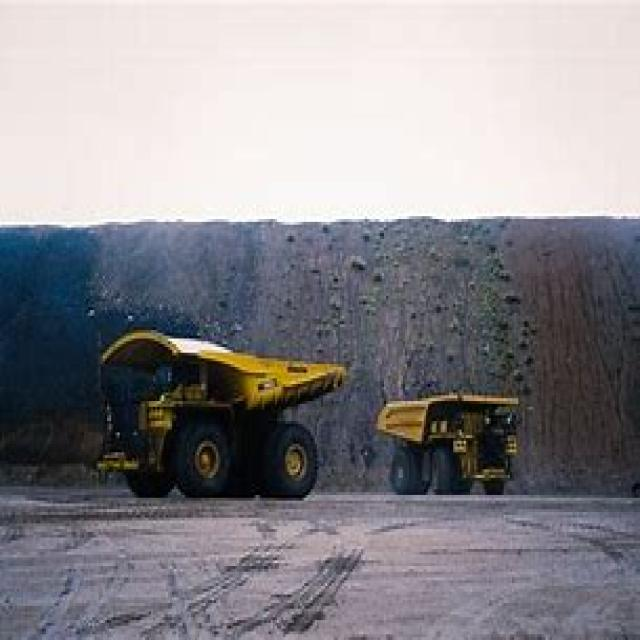dump_truck: (97, 318, 346, 501), (374, 384, 524, 501)
